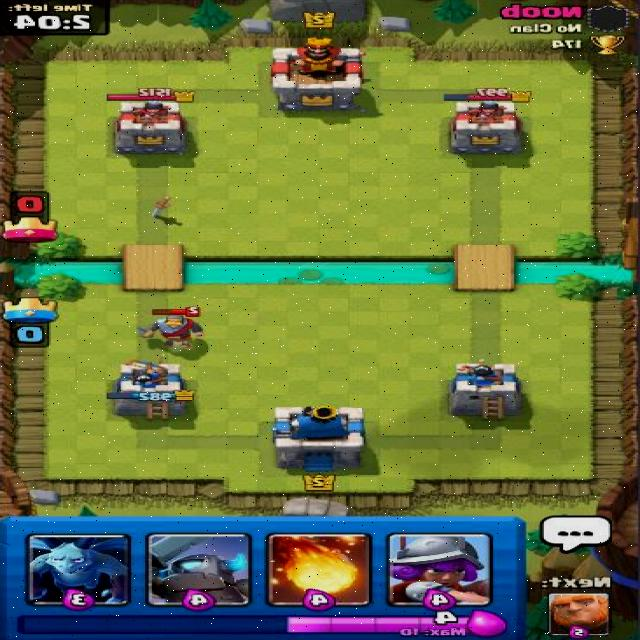Enemy-Knight: (133, 305, 206, 350)
